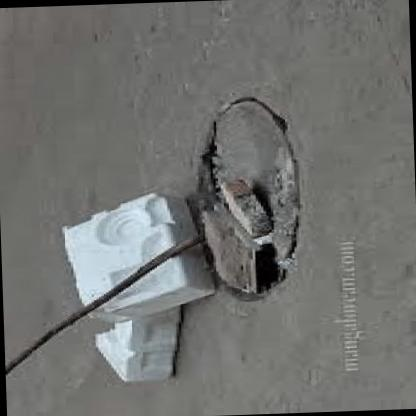manholes: (106, 53, 341, 334)
